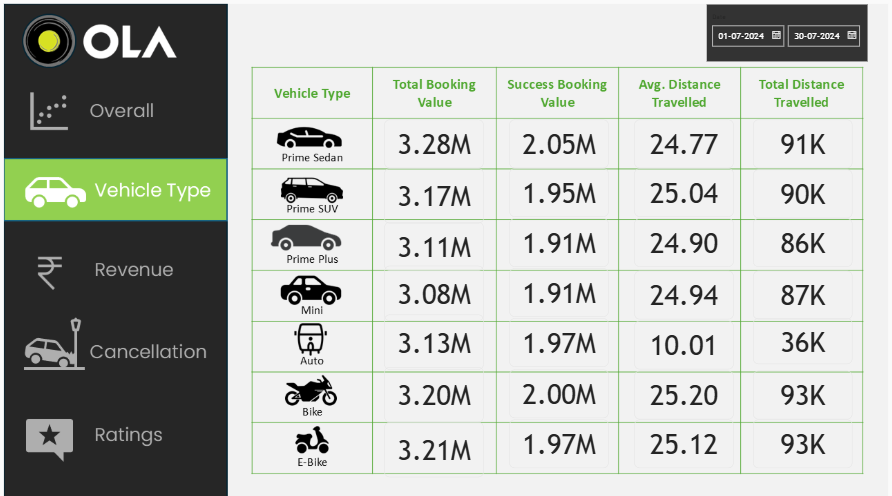

Layout of this report page (visuals, bound fields, positions):
{"tool":"powerbi","page":{"name":"Vehical Type","canvas":[1920,1080],"ordinal":1},"visuals":[{"type":"actionButton","box":[318.3,516.7,325,90],"z":0},{"type":"actionButton","box":[318.3,626.7,325,90],"z":1000},{"type":"actionButton","box":[318.3,758.3,325,90],"z":2000},{"type":"actionButton","box":[318.3,290,325,90],"z":3000},{"type":"card","fields":{"Values":["Sum(July.Booking_Value)"]},"box":[870,344,144,70],"z":4000},{"type":"card","fields":{"Values":["Sum(July.Booking_Value)"]},"box":[870,414,144,80],"z":5000},{"type":"card","fields":{"Values":["Sum(July.Booking_Value)"]},"box":[870,492,144,70],"z":6000},{"type":"card","fields":{"Values":["Sum(July.Booking_Value)"]},"box":[870,556,144,80],"z":7000},{"type":"card","fields":{"Values":["Sum(July.Booking_Value)"]},"box":[870,626,144,80],"z":8000},{"type":"card","fields":{"Values":["Sum(July.Booking_Value)"]},"box":[870,702,144,80],"z":9000},{"type":"card","fields":{"Values":["Sum(July.Booking_Value)"]},"box":[870,782,144,80],"z":10000},{"type":"card","fields":{"Values":["Sum(July.Booking_Value)"]},"box":[1052,344,144,70],"z":11000},{"type":"card","fields":{"Values":["Sum(July.Booking_Value)"]},"box":[1052,414,144,70],"z":12000},{"type":"card","fields":{"Values":["Sum(July.Booking_Value)"]},"box":[1052,486,144,70],"z":13000},{"type":"card","fields":{"Values":["Sum(July.Booking_Value)"]},"box":[1052,560,144,70],"z":14000},{"type":"card","fields":{"Values":["Sum(July.Booking_Value)"]},"box":[1052,632,144,70],"z":15000},{"type":"card","fields":{"Values":["Sum(July.Booking_Value)"]},"box":[1052,706,144,70],"z":16000},{"type":"card","fields":{"Values":["Sum(July.Booking_Value)"]},"box":[1052,778,144,70],"z":17000},{"type":"card","fields":{"Values":["Avg(July.Ride_Distance)"]},"box":[1232,344,144,70],"z":18000},{"type":"card","fields":{"Values":["Avg(July.Ride_Distance)"]},"box":[1232,414,144,70],"z":19000},{"type":"card","fields":{"Values":["Avg(July.Ride_Distance)"]},"box":[1232,486,144,70],"z":20000},{"type":"card","fields":{"Values":["Avg(July.Ride_Distance)"]},"box":[1232,562,144,70],"z":21000},{"type":"card","fields":{"Values":["Avg(July.Ride_Distance)"]},"box":[1232,636,144,70],"z":22000},{"type":"card","fields":{"Values":["Avg(July.Ride_Distance)"]},"box":[1232,708,144,70],"z":23000},{"type":"card","fields":{"Values":["Avg(July.Ride_Distance)"]},"box":[1232,778,144,70],"z":24000},{"type":"card","fields":{"Values":["Sum(July.Ride_Distance)"]},"box":[1404,344,144,70],"z":25000},{"type":"card","fields":{"Values":["Sum(July.Ride_Distance)"]},"box":[1404,416,144,70],"z":26000},{"type":"card","fields":{"Values":["Sum(July.Ride_Distance)"]},"box":[1404,486,144,70],"z":27000},{"type":"card","fields":{"Values":["Sum(July.Ride_Distance)"]},"box":[1404,562,144,70],"z":28000},{"type":"card","fields":{"Values":["Sum(July.Ride_Distance)"]},"box":[1404,632,144,66],"z":29000},{"type":"card","fields":{"Values":["Sum(July.Ride_Distance)"]},"box":[1404,708,144,70],"z":30000},{"type":"card","fields":{"Values":["Sum(July.Ride_Distance)"]},"box":[1404,778,144,70],"z":31000},{"type":"slicer","title":"DATE","fields":{"Values":["July.Date"]},"box":[1337.5,177.5,232.5,82.5],"z":32000}]}

Visuals, with their boxes on the page's 1920x1080 design canvas (x1, y1, x2, y2). These are canvas units, not pixel positions in the 892x496 screenshot, which may show the page scaled, cropped or inside an application window:
actionButton: {"x1": 318, "y1": 517, "x2": 643, "y2": 607}
actionButton: {"x1": 318, "y1": 627, "x2": 643, "y2": 717}
actionButton: {"x1": 318, "y1": 758, "x2": 643, "y2": 848}
actionButton: {"x1": 318, "y1": 290, "x2": 643, "y2": 380}
card - Sum(July.Booking_Value): {"x1": 870, "y1": 344, "x2": 1014, "y2": 414}
card - Sum(July.Booking_Value): {"x1": 870, "y1": 414, "x2": 1014, "y2": 494}
card - Sum(July.Booking_Value): {"x1": 870, "y1": 492, "x2": 1014, "y2": 562}
card - Sum(July.Booking_Value): {"x1": 870, "y1": 556, "x2": 1014, "y2": 636}
card - Sum(July.Booking_Value): {"x1": 870, "y1": 626, "x2": 1014, "y2": 706}
card - Sum(July.Booking_Value): {"x1": 870, "y1": 702, "x2": 1014, "y2": 782}
card - Sum(July.Booking_Value): {"x1": 870, "y1": 782, "x2": 1014, "y2": 862}
card - Sum(July.Booking_Value): {"x1": 1052, "y1": 344, "x2": 1196, "y2": 414}
card - Sum(July.Booking_Value): {"x1": 1052, "y1": 414, "x2": 1196, "y2": 484}
card - Sum(July.Booking_Value): {"x1": 1052, "y1": 486, "x2": 1196, "y2": 556}
card - Sum(July.Booking_Value): {"x1": 1052, "y1": 560, "x2": 1196, "y2": 630}
card - Sum(July.Booking_Value): {"x1": 1052, "y1": 632, "x2": 1196, "y2": 702}
card - Sum(July.Booking_Value): {"x1": 1052, "y1": 706, "x2": 1196, "y2": 776}
card - Sum(July.Booking_Value): {"x1": 1052, "y1": 778, "x2": 1196, "y2": 848}
card - Avg(July.Ride_Distance): {"x1": 1232, "y1": 344, "x2": 1376, "y2": 414}
card - Avg(July.Ride_Distance): {"x1": 1232, "y1": 414, "x2": 1376, "y2": 484}
card - Avg(July.Ride_Distance): {"x1": 1232, "y1": 486, "x2": 1376, "y2": 556}
card - Avg(July.Ride_Distance): {"x1": 1232, "y1": 562, "x2": 1376, "y2": 632}
card - Avg(July.Ride_Distance): {"x1": 1232, "y1": 636, "x2": 1376, "y2": 706}
card - Avg(July.Ride_Distance): {"x1": 1232, "y1": 708, "x2": 1376, "y2": 778}
card - Avg(July.Ride_Distance): {"x1": 1232, "y1": 778, "x2": 1376, "y2": 848}
card - Sum(July.Ride_Distance): {"x1": 1404, "y1": 344, "x2": 1548, "y2": 414}
card - Sum(July.Ride_Distance): {"x1": 1404, "y1": 416, "x2": 1548, "y2": 486}
card - Sum(July.Ride_Distance): {"x1": 1404, "y1": 486, "x2": 1548, "y2": 556}
card - Sum(July.Ride_Distance): {"x1": 1404, "y1": 562, "x2": 1548, "y2": 632}
card - Sum(July.Ride_Distance): {"x1": 1404, "y1": 632, "x2": 1548, "y2": 698}
card - Sum(July.Ride_Distance): {"x1": 1404, "y1": 708, "x2": 1548, "y2": 778}
card - Sum(July.Ride_Distance): {"x1": 1404, "y1": 778, "x2": 1548, "y2": 848}
"DATE" slicer: {"x1": 1338, "y1": 178, "x2": 1570, "y2": 260}
